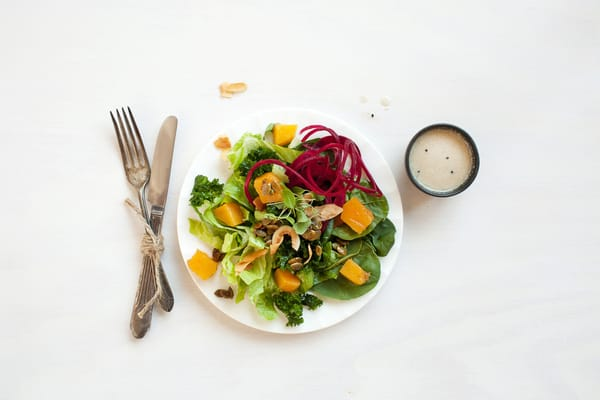sushi: (174, 118, 403, 335), (405, 123, 480, 197)
